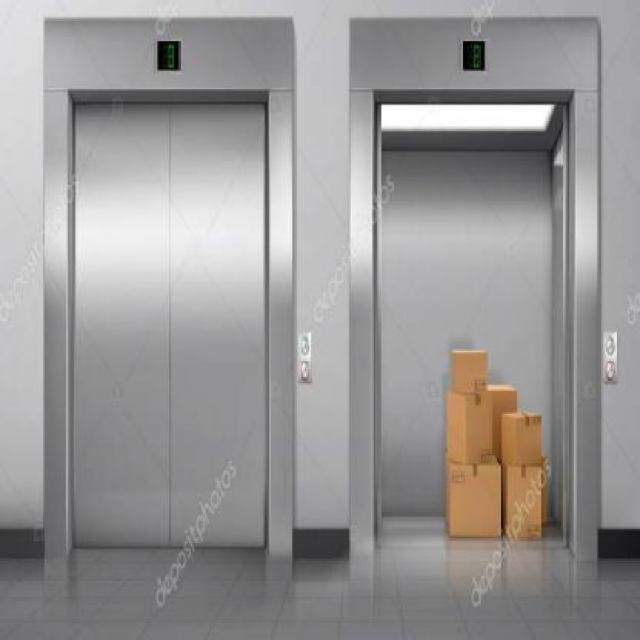box: (444, 460, 504, 540), (503, 466, 555, 542), (444, 392, 492, 466), (500, 406, 548, 466), (489, 381, 517, 458), (446, 348, 492, 392)
